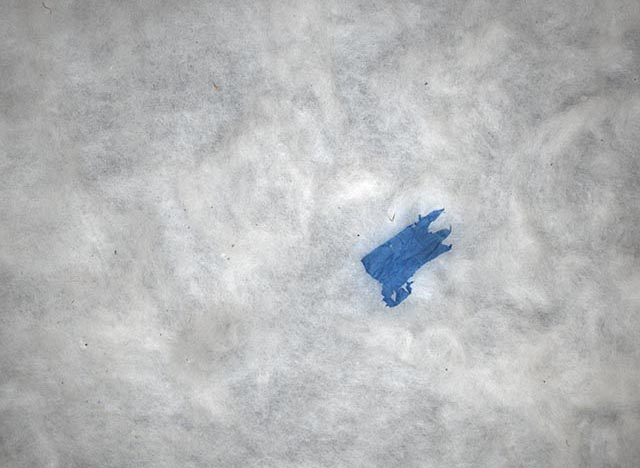plastic film: (359, 209, 452, 308)
